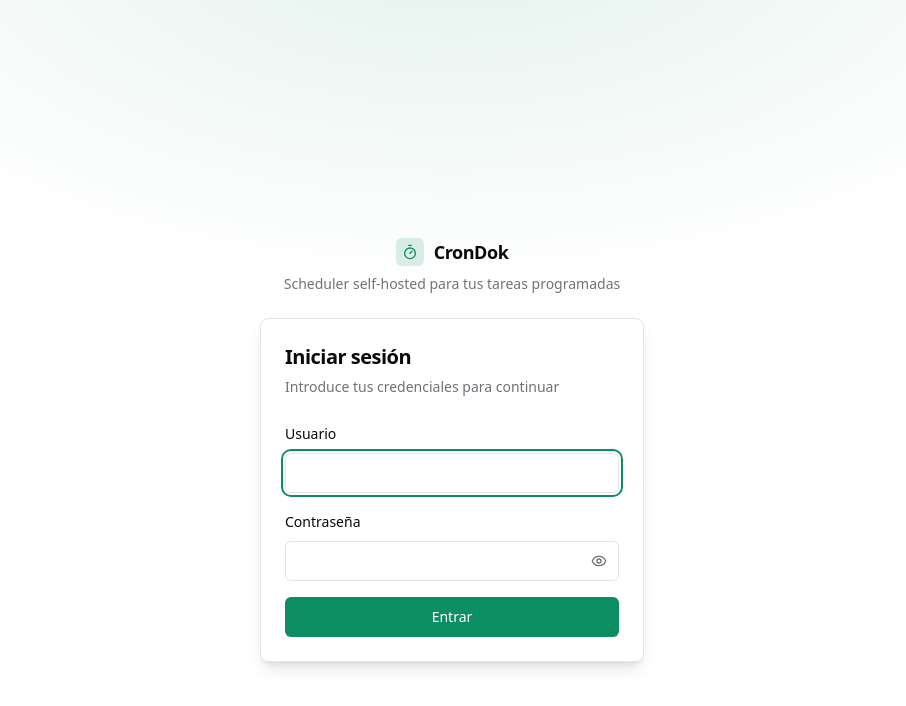
Test case: LoginPage › muestra un error visible ante un 401
The width and height of the screenshot is (906, 706).
Type "admin" into the field labelled "Usuario". click: (452, 473)
box: [285, 453, 619, 493]
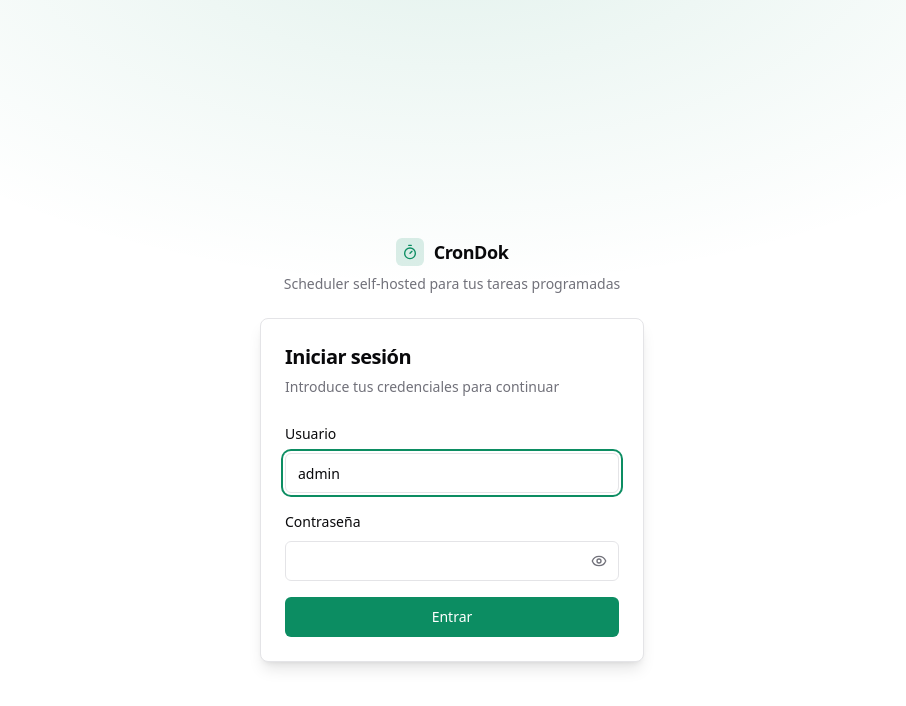
Type "mal" into the password field labelled "Contraseña". click: (452, 561)
box: [285, 541, 619, 581]
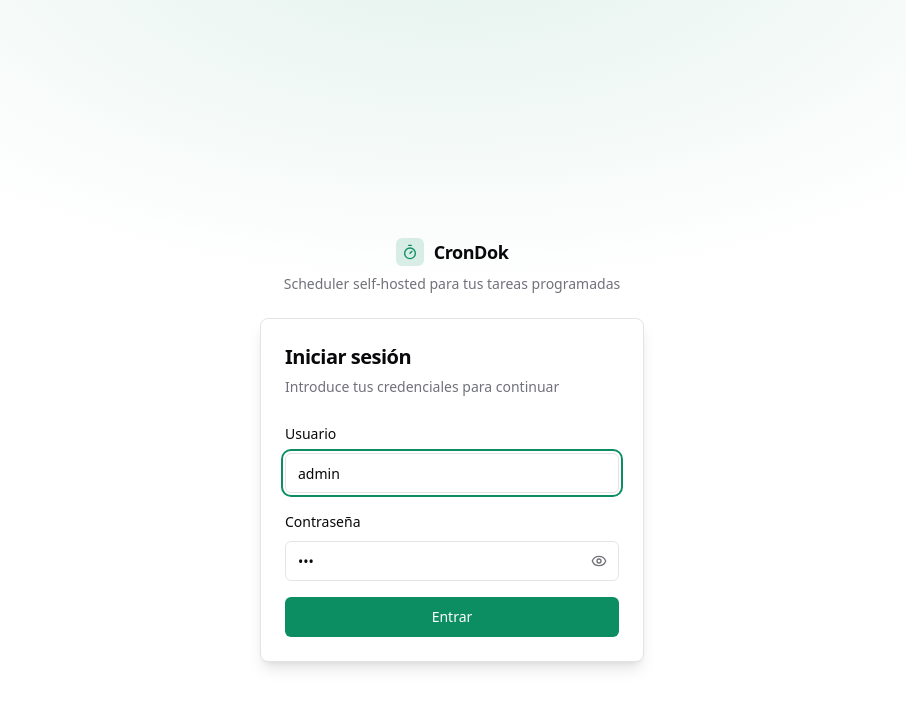
Click the button "Entrar". click: (452, 617)
box: [285, 597, 619, 637]
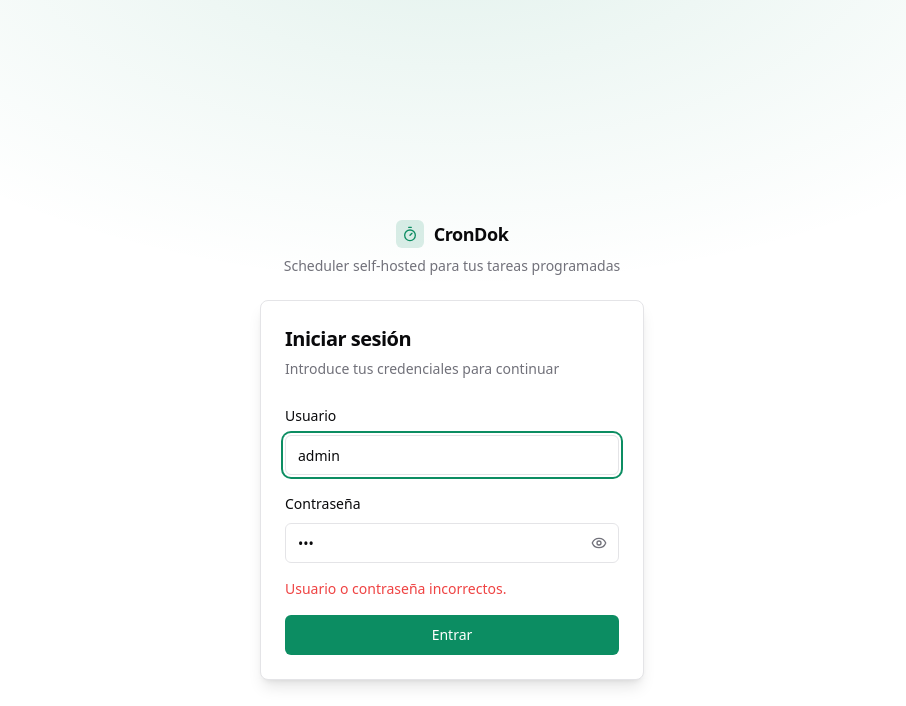
Now the message reads "Usuario o contraseña incorrectos.", box [285, 579, 506, 598]
